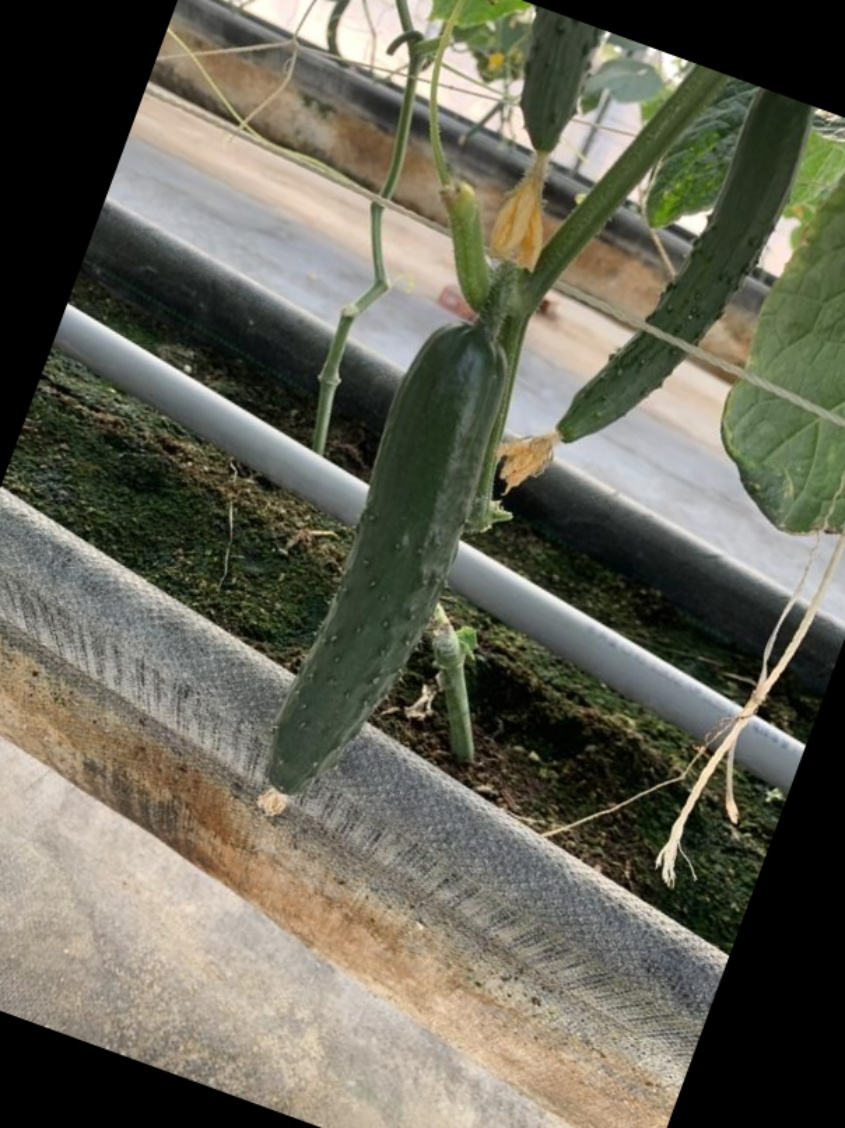mature: (551, 94, 810, 444)
